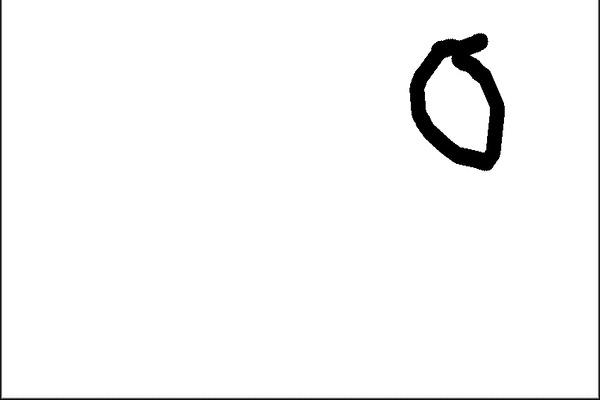O: (397, 24, 523, 179)
